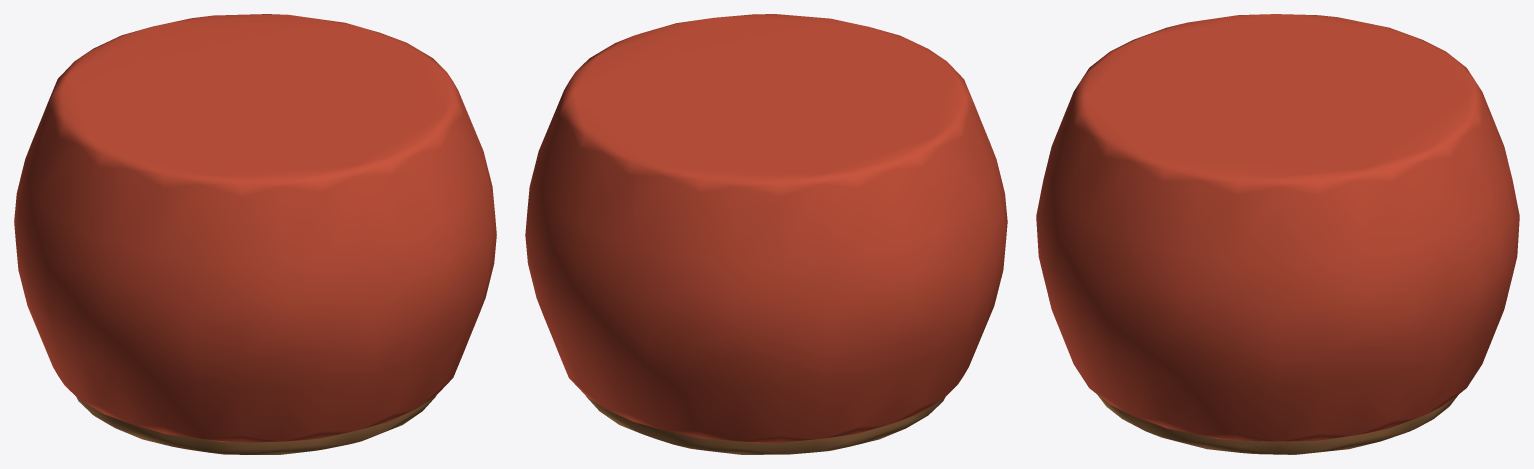
The model's file is stool_05_leather_red.fbx.
3 renders of one model, left to right at view 1: azimuth 30°, elevation 25°; view 2: azimuth 150°, elevation 25°; view 3: azimuth 270°, elevation 25°, orthographic.
Parts seen in each view (by area): view 1: stool_05_leather_red; view 2: stool_05_leather_red; view 3: stool_05_leather_red.
Part boxes in pixels (x1,y1,x2,y2): stool_05_leather_red: (14, 14, 496, 454); stool_05_leather_red: (525, 14, 1007, 454); stool_05_leather_red: (1036, 14, 1519, 454).
Size of the model in its own units: 74.92 by 48.55 by 74.92.
2 materials, 2 textured.
